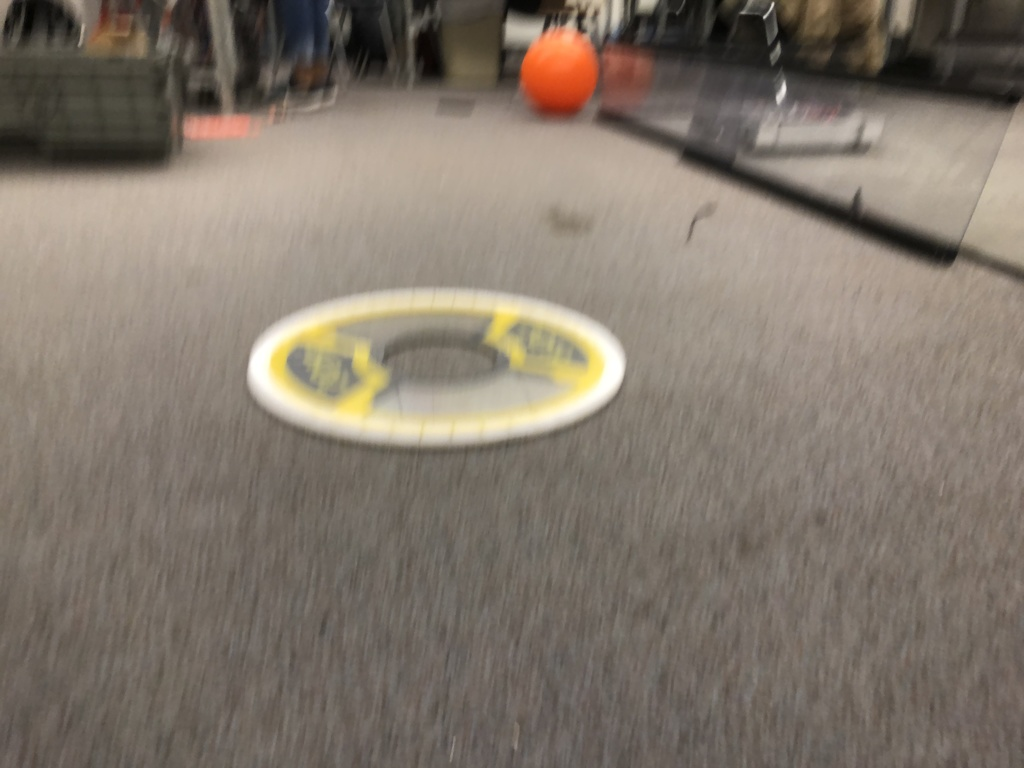hatch_panel: (234, 270, 658, 460)
